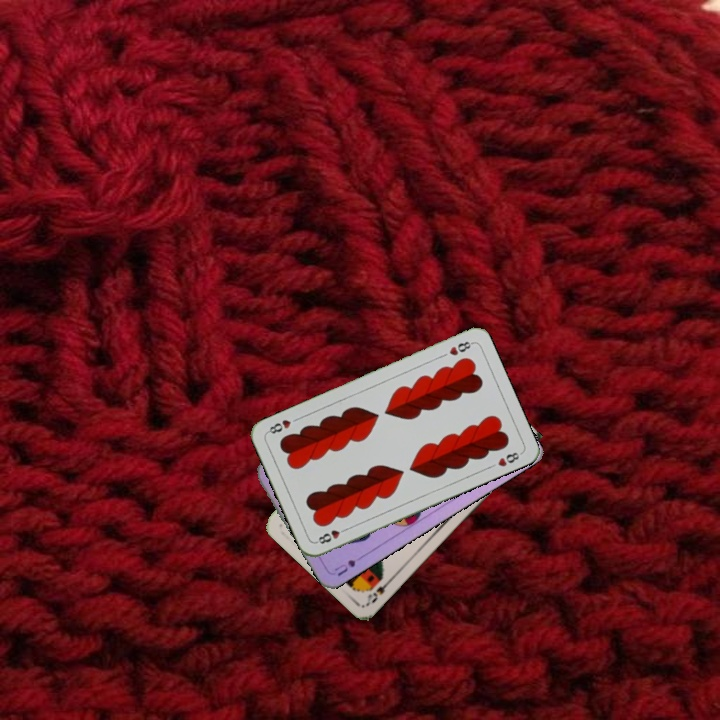H8: (312, 523, 351, 547), (445, 337, 475, 358)
SO: (363, 573, 395, 607)
SU: (330, 550, 368, 578)
